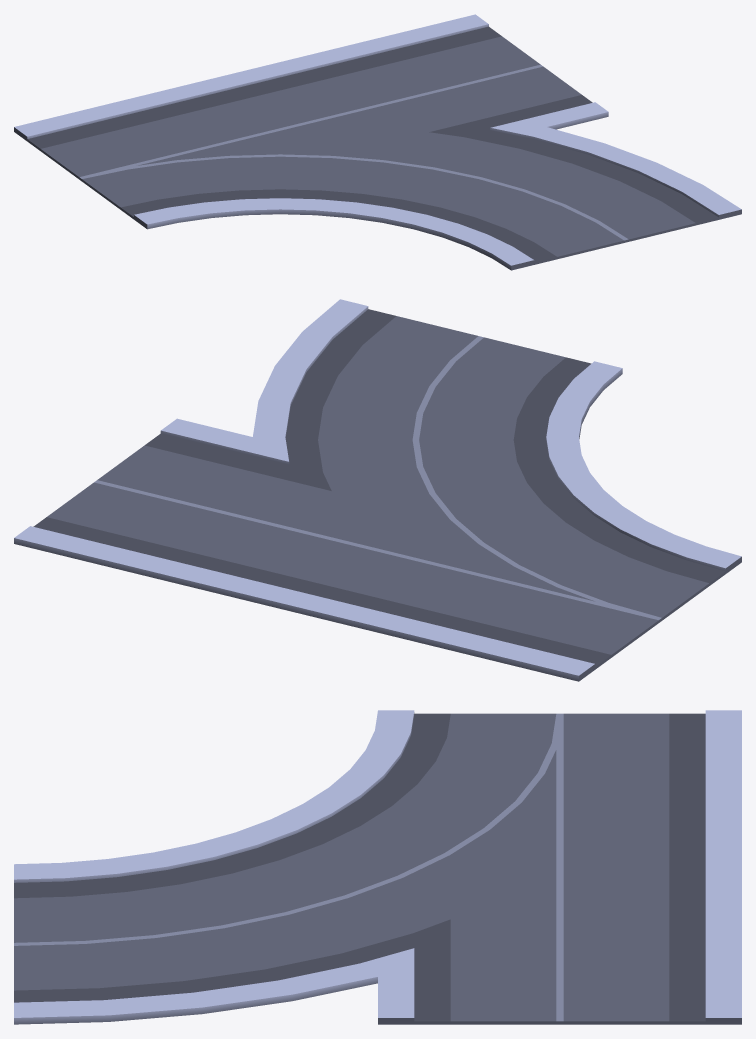
File: road-curve-intersection.fbx
3 renders of one model, top to bottom at view 1: azimuth 30°, elevation 25°; view 2: azimuth 150°, elevation 25°; view 3: azimuth 270°, elevation 25°, orthographic. The views are drawn at different scales.
Visible parts, largest first — view 1: road-curve-intersection; view 2: road-curve-intersection; view 3: road-curve-intersection.
Part boxes in pixels (left/top/right/bottom): road-curve-intersection: left=14, top=14, right=741, bottom=270; road-curve-intersection: left=14, top=299, right=741, bottom=681; road-curve-intersection: left=14, top=710, right=741, bottom=1024.
Size of the model in its own units: 200 by 2 by 200.
